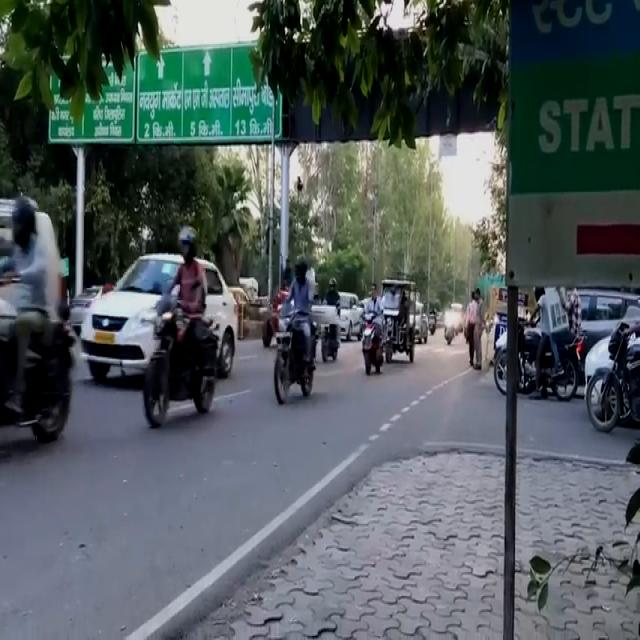MOTORCYCLE: (142, 301, 218, 421), (589, 326, 640, 434), (270, 311, 316, 405), (359, 305, 383, 376)
